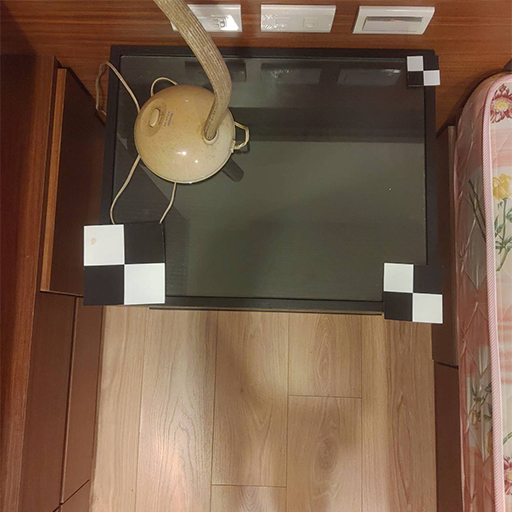方標: (77, 218, 171, 308), (381, 255, 446, 326), (403, 52, 444, 91)
